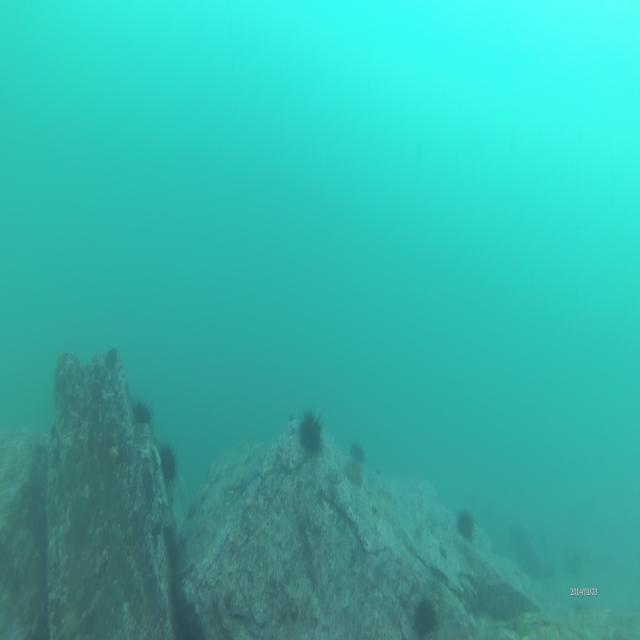echinus: (296, 399, 325, 458), (154, 432, 184, 489), (410, 592, 440, 636), (453, 496, 478, 547), (130, 392, 154, 431), (342, 449, 364, 486), (349, 433, 369, 468)
